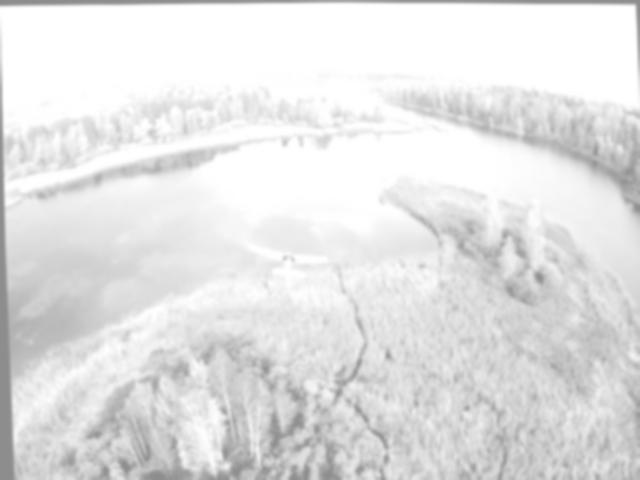hedef: (244, 233, 330, 295)
